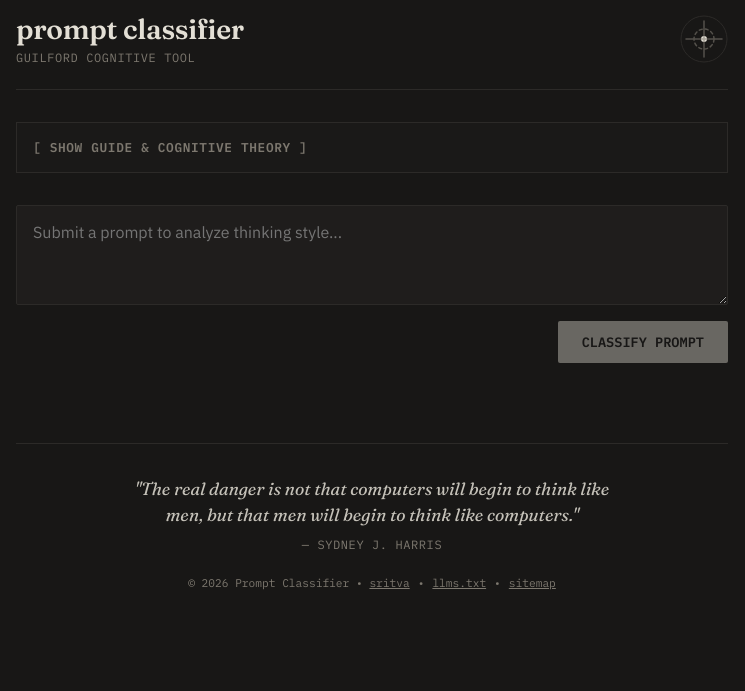
Scenario: Prompt Classifier Frontend App › handles error states (e.g. network failure / rate limit)
Step 1. Type "Tell me a joke" into the text box with placeholder "Submit a prompt to analyze thinking style..." → (372,255), box [16,205,728,305]
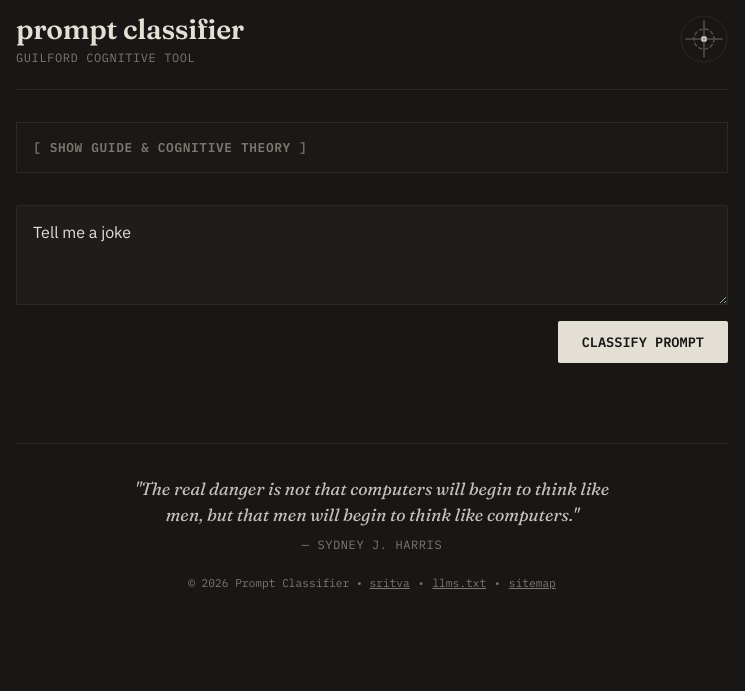
Step 2. Click the button "Classify Prompt" → (643,342), box [558,321,728,363]
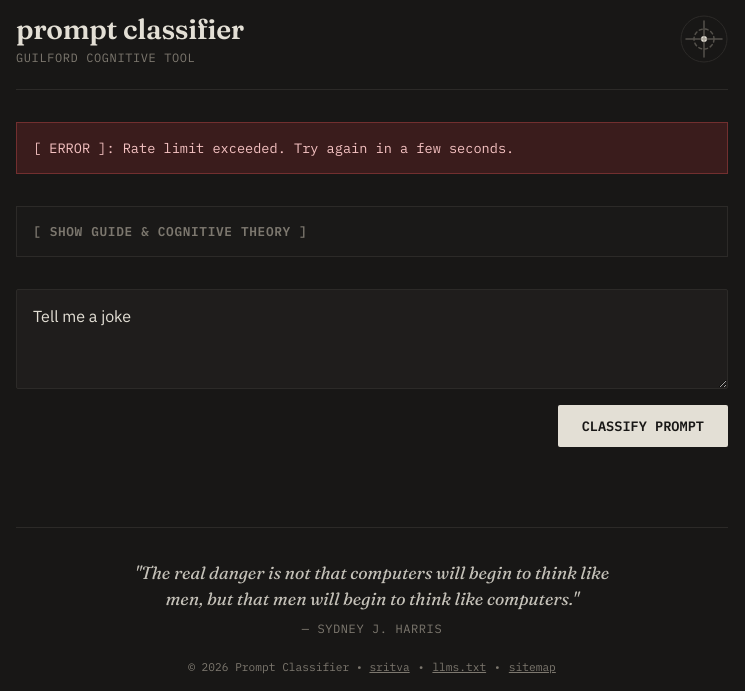
Expected: the text "[ ERROR ]: Rate limit exceeded. Try again in a few seconds." is shown, [16,122,728,174]
